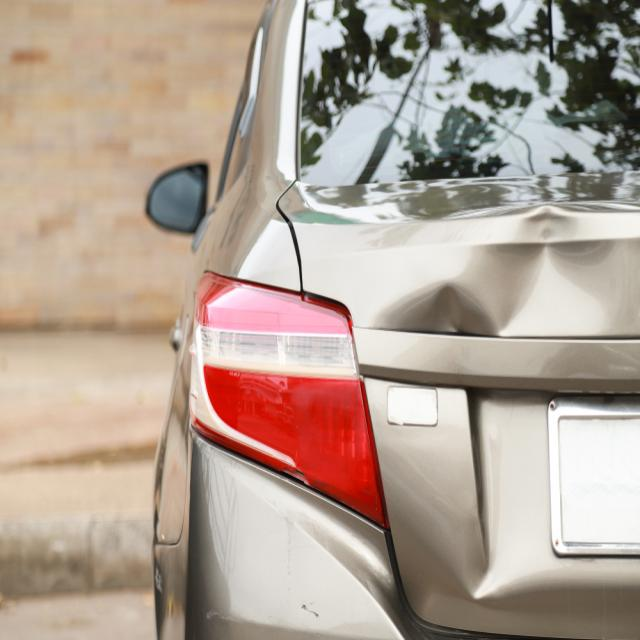Cabossage: (363, 275, 522, 609), (484, 211, 612, 350)
Phare abime: (283, 446, 306, 488)
Rayure: (300, 600, 326, 635)
